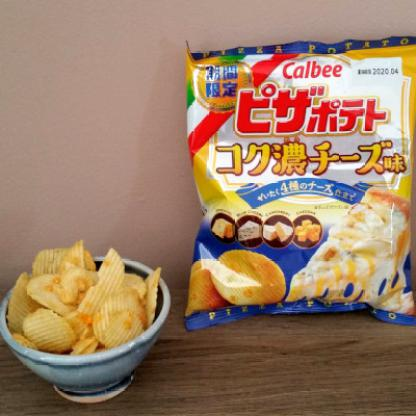potatochip: (174, 33, 415, 338)
